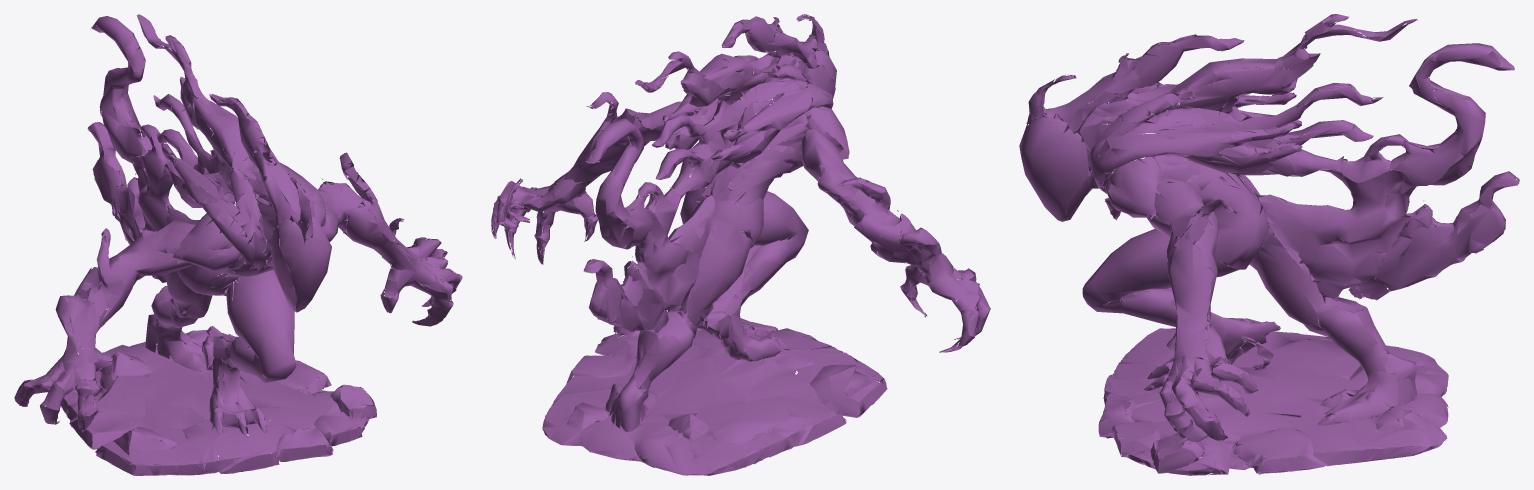
The model's file is shade.glb.
3 views of the same model, side by side, from view 1: azimuth 30°, elevation 25°; view 2: azimuth 150°, elevation 25°; view 3: azimuth 270°, elevation 25° (orthographic). The views are drawn at different scales.
Visible parts, largest first — view 1: model; view 2: model; view 3: model.
Boxes of the visible parts, x1,y1,x2,y2 form: model: (14, 14, 462, 475); model: (491, 14, 990, 475); model: (1019, 14, 1519, 475).
Bounding box in the file's own units: 1.9 × 1.45 × 1.67.
